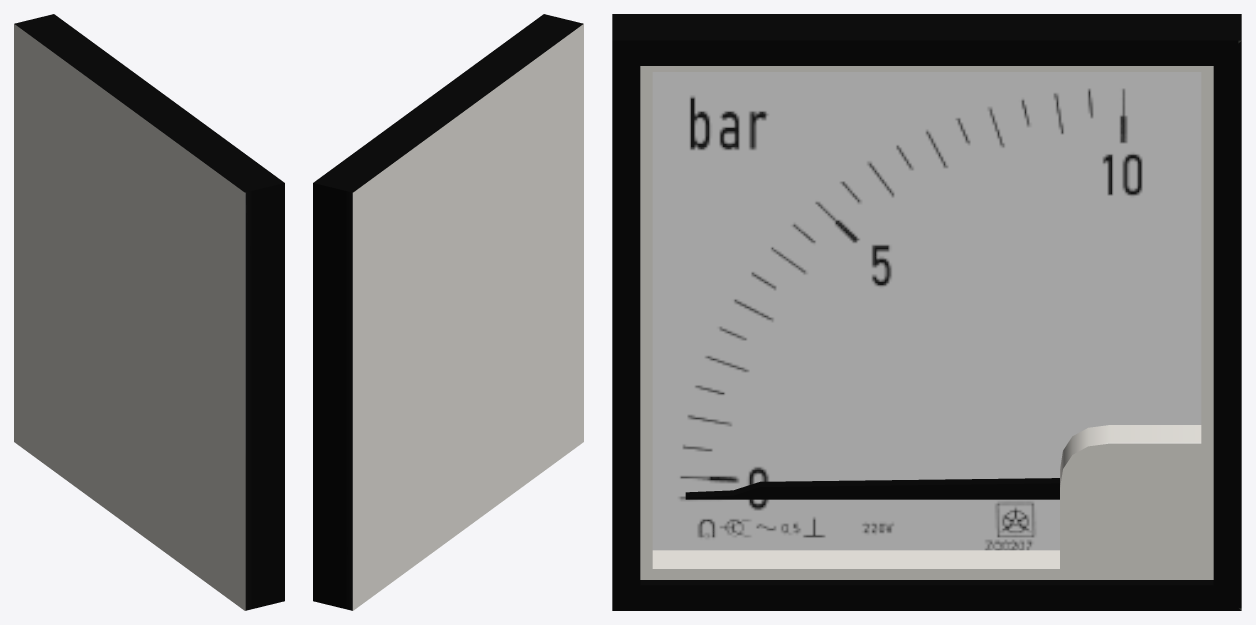
Rendered from gauge_bar_0-10_square.fbx.
3 renders of one model, left to right at view 1: azimuth 30°, elevation 25°; view 2: azimuth 150°, elevation 25°; view 3: azimuth 270°, elevation 25°, orthographic. The views are drawn at different scales.
Parts seen in each view (by area): view 1: gauge_bar_0-10_square; view 2: gauge_bar_0-10_square; view 3: gauge_bar_0-10_square, needle004.
Part boxes in pixels (x1,y1,x2,y2): gauge_bar_0-10_square: [14, 14, 284, 610]; gauge_bar_0-10_square: [313, 14, 583, 610]; gauge_bar_0-10_square: [612, 14, 1241, 610]; needle004: [685, 478, 1059, 499].
Size of the model in its own units: 0.8243 by 8.24 by 8.24.
Materials: 1 (1 with a texture image).
